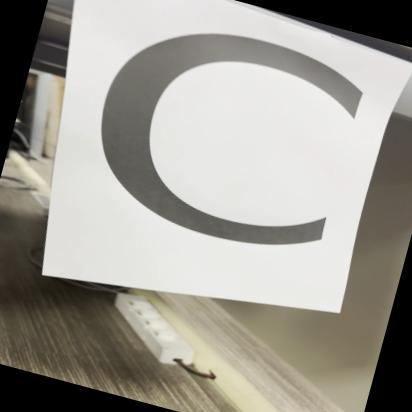seat: (44, 0, 391, 303)
